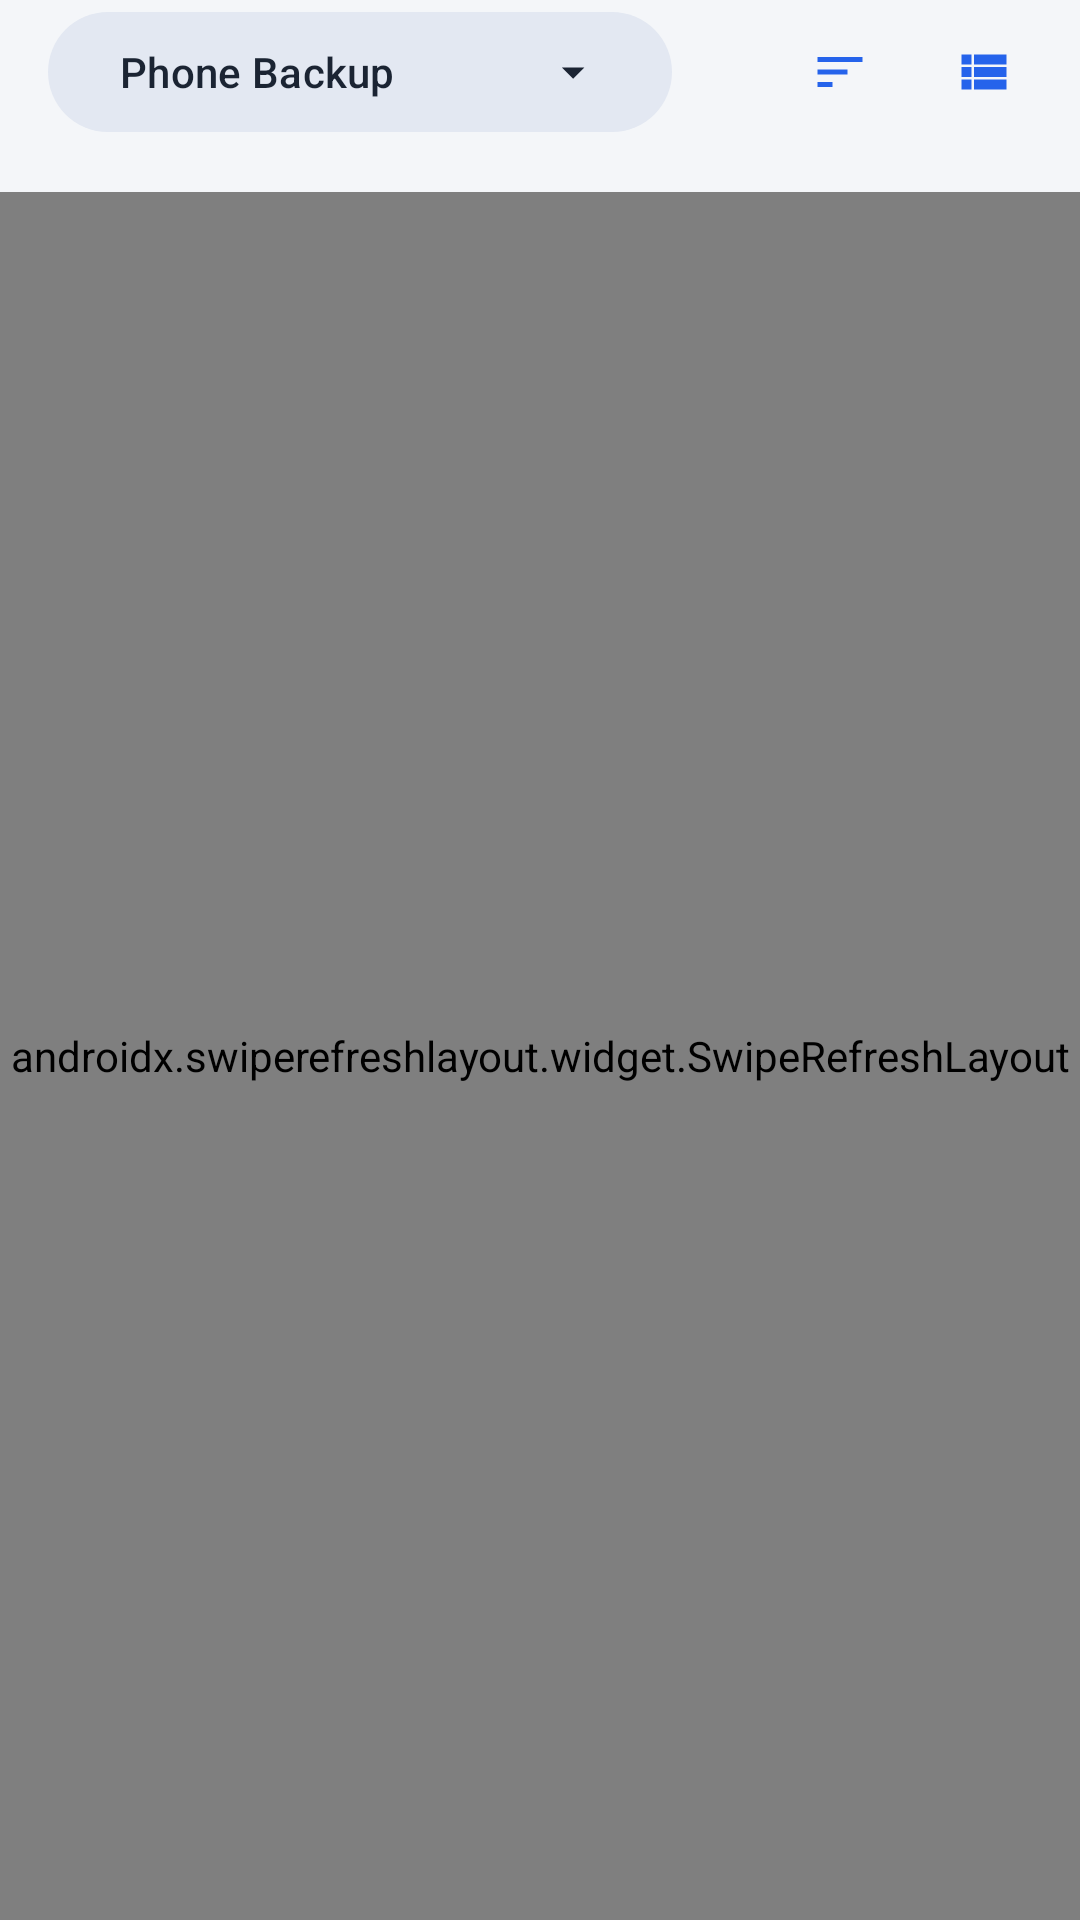

Screen size 1080*1920. Icon name, then its box in pixels as (x1, y1, x2, y2):
Change view: (961, 54, 1007, 90)
Sort: (817, 57, 863, 87)
